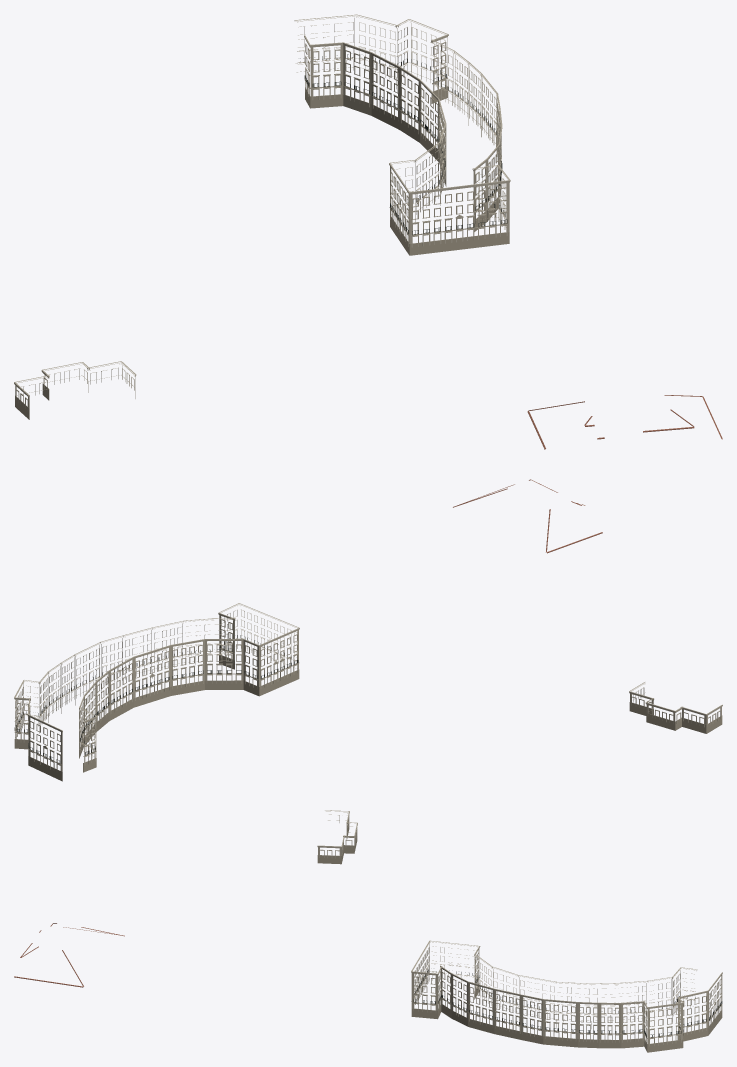
3 renders of one model, top to bottom at view 1: azimuth 30°, elevation 25°; view 2: azimuth 150°, elevation 25°; view 3: azimuth 270°, elevation 25°, orthographic. The views are drawn at different scales.
Parts seen in each view (by area): view 1: detail; view 2: detail; view 3: detail.
Boxes of the visible parts, x1,y1,x2,y2 form: detail: (14,14,722,449); detail: (14,479,722,781); detail: (14,810,722,1052).
Size of the model in its own units: 161 by 15.16 by 215.
